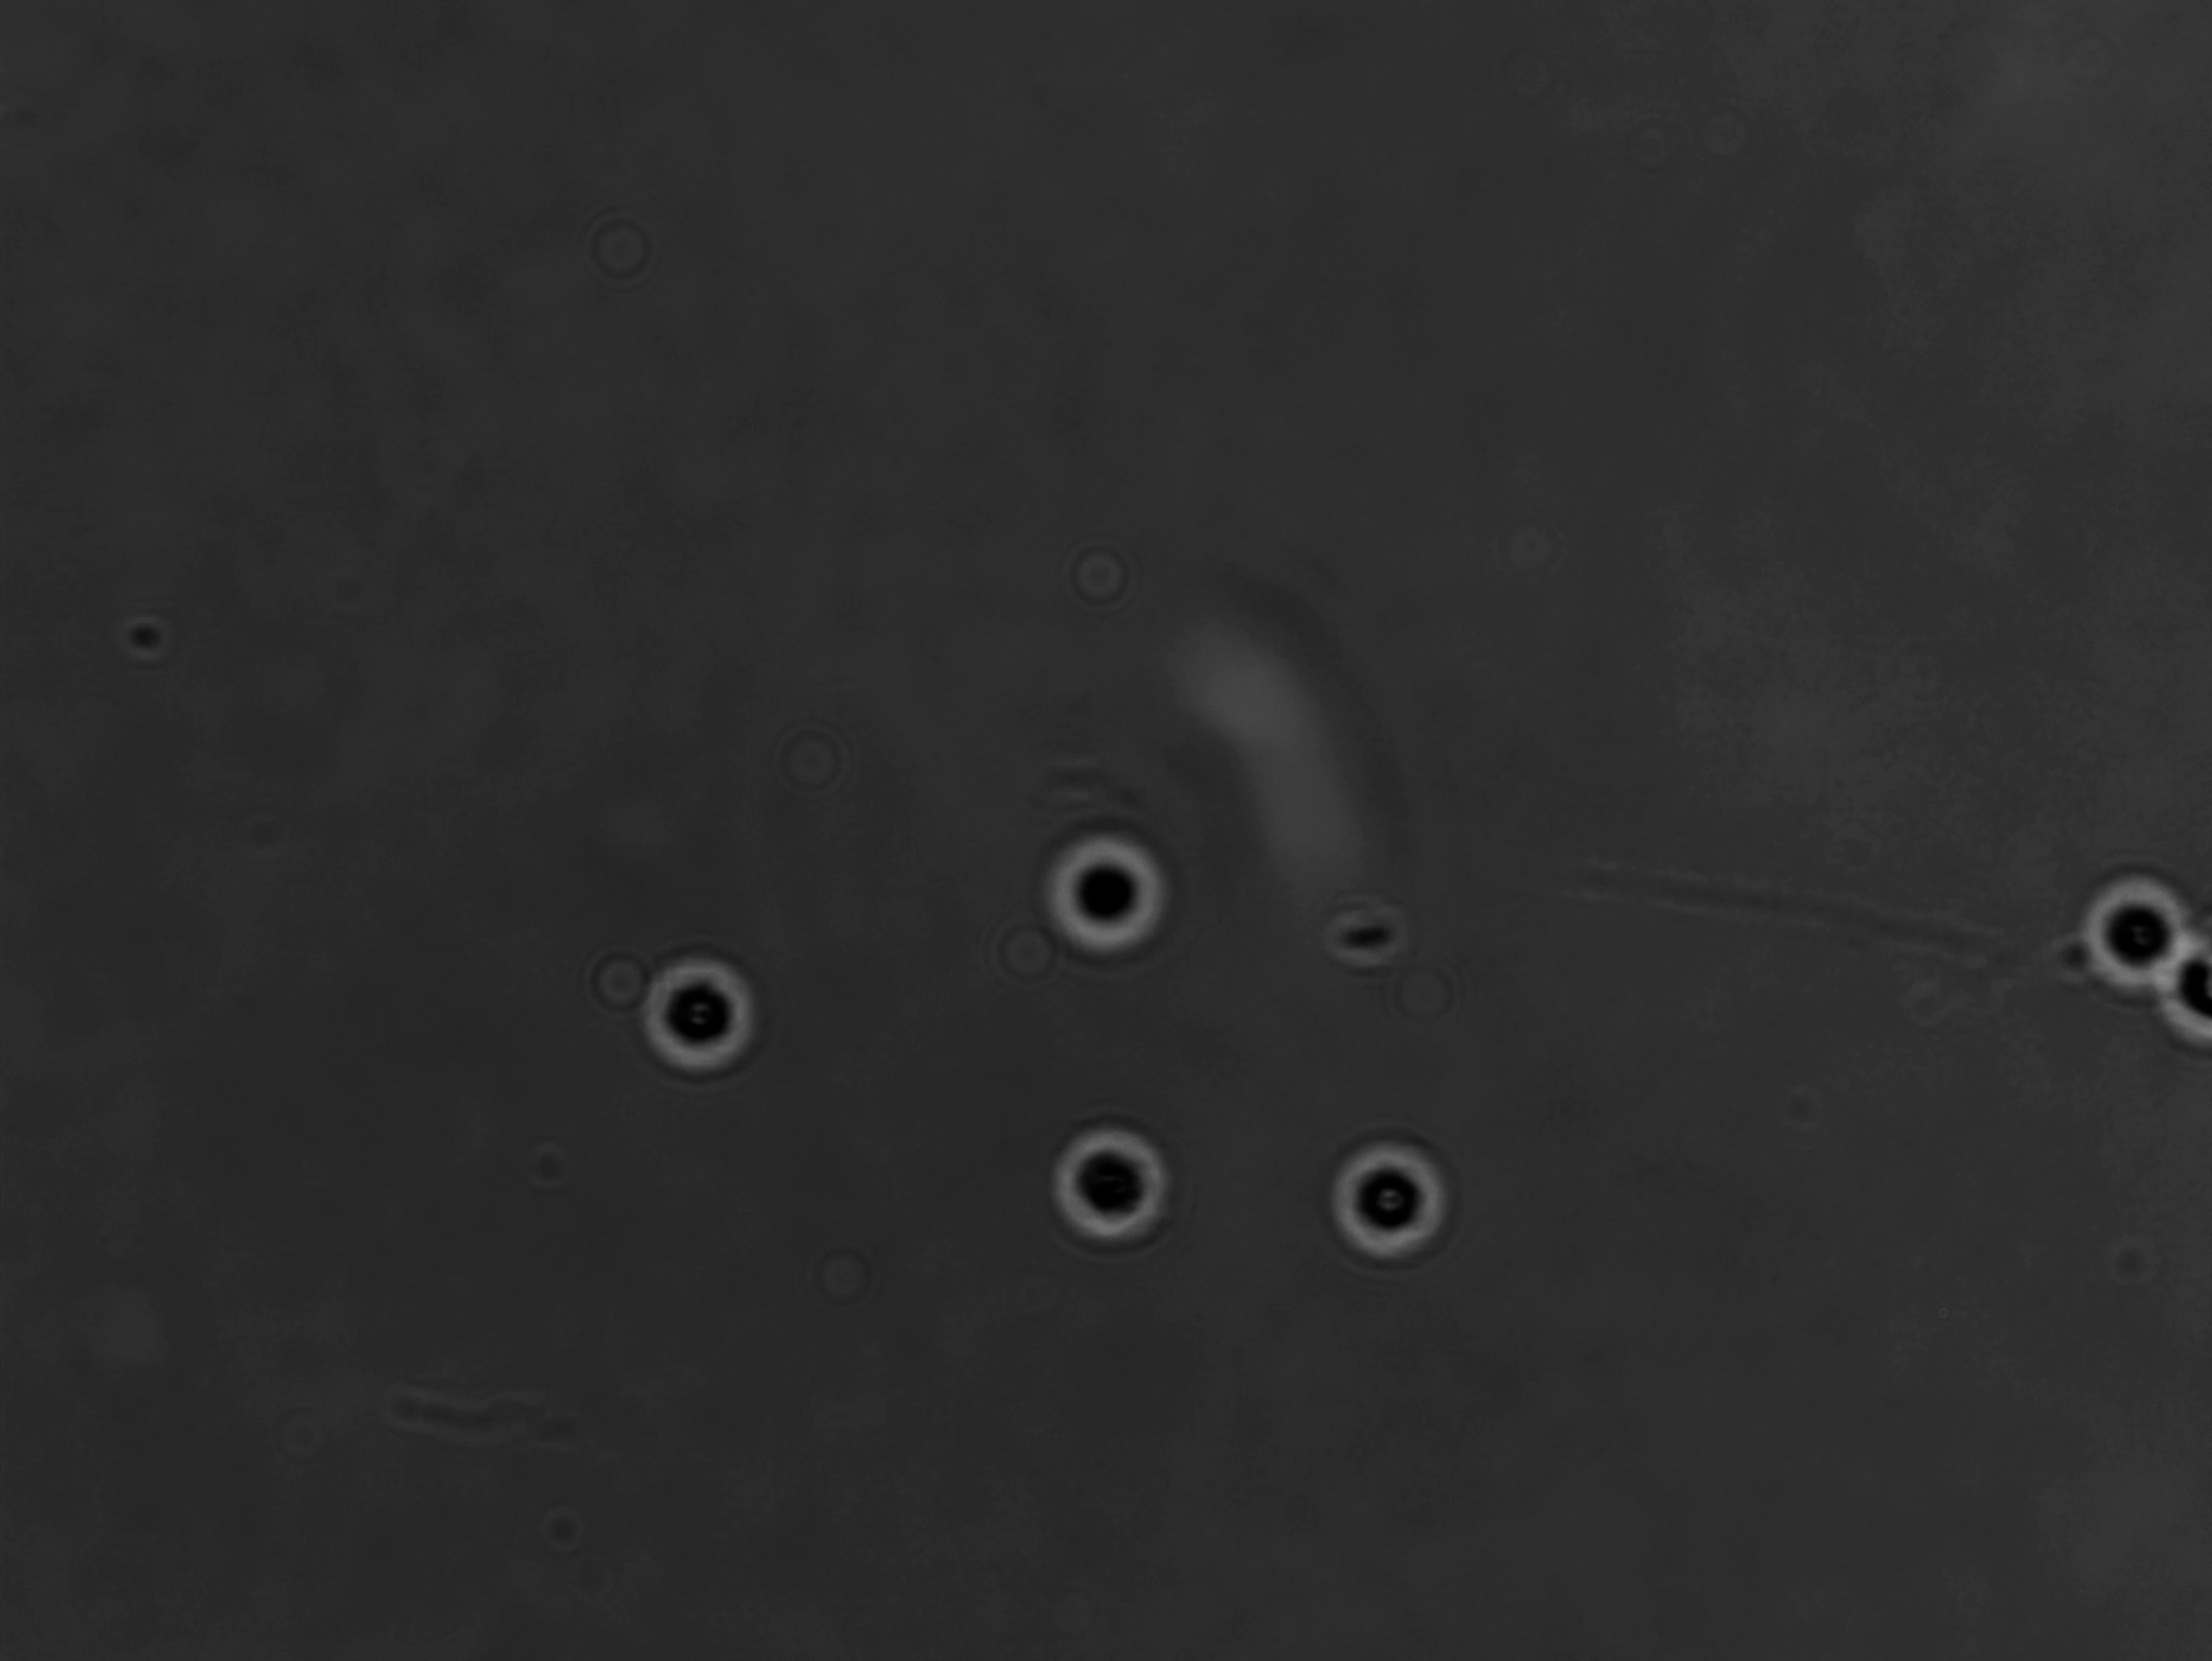depth:-20: (1026, 811, 1197, 977), (1027, 1103, 1197, 1267), (2050, 834, 2212, 1003), (625, 935, 787, 1094), (1312, 1118, 1478, 1272)
